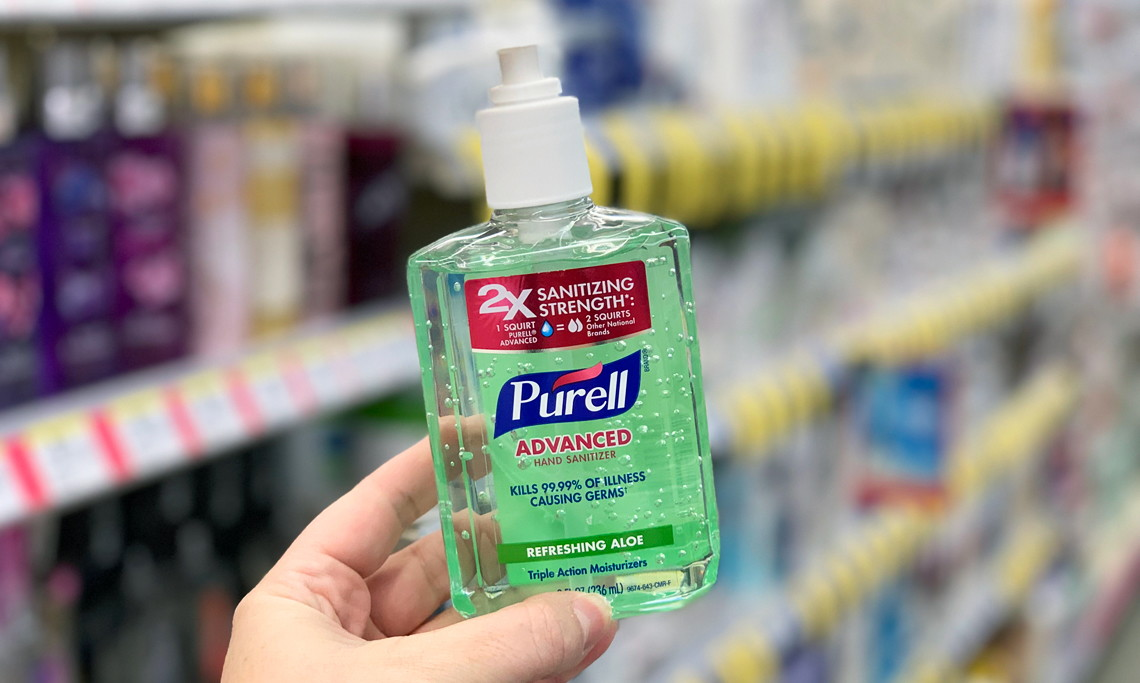Sanitizer: (399, 34, 741, 620)
